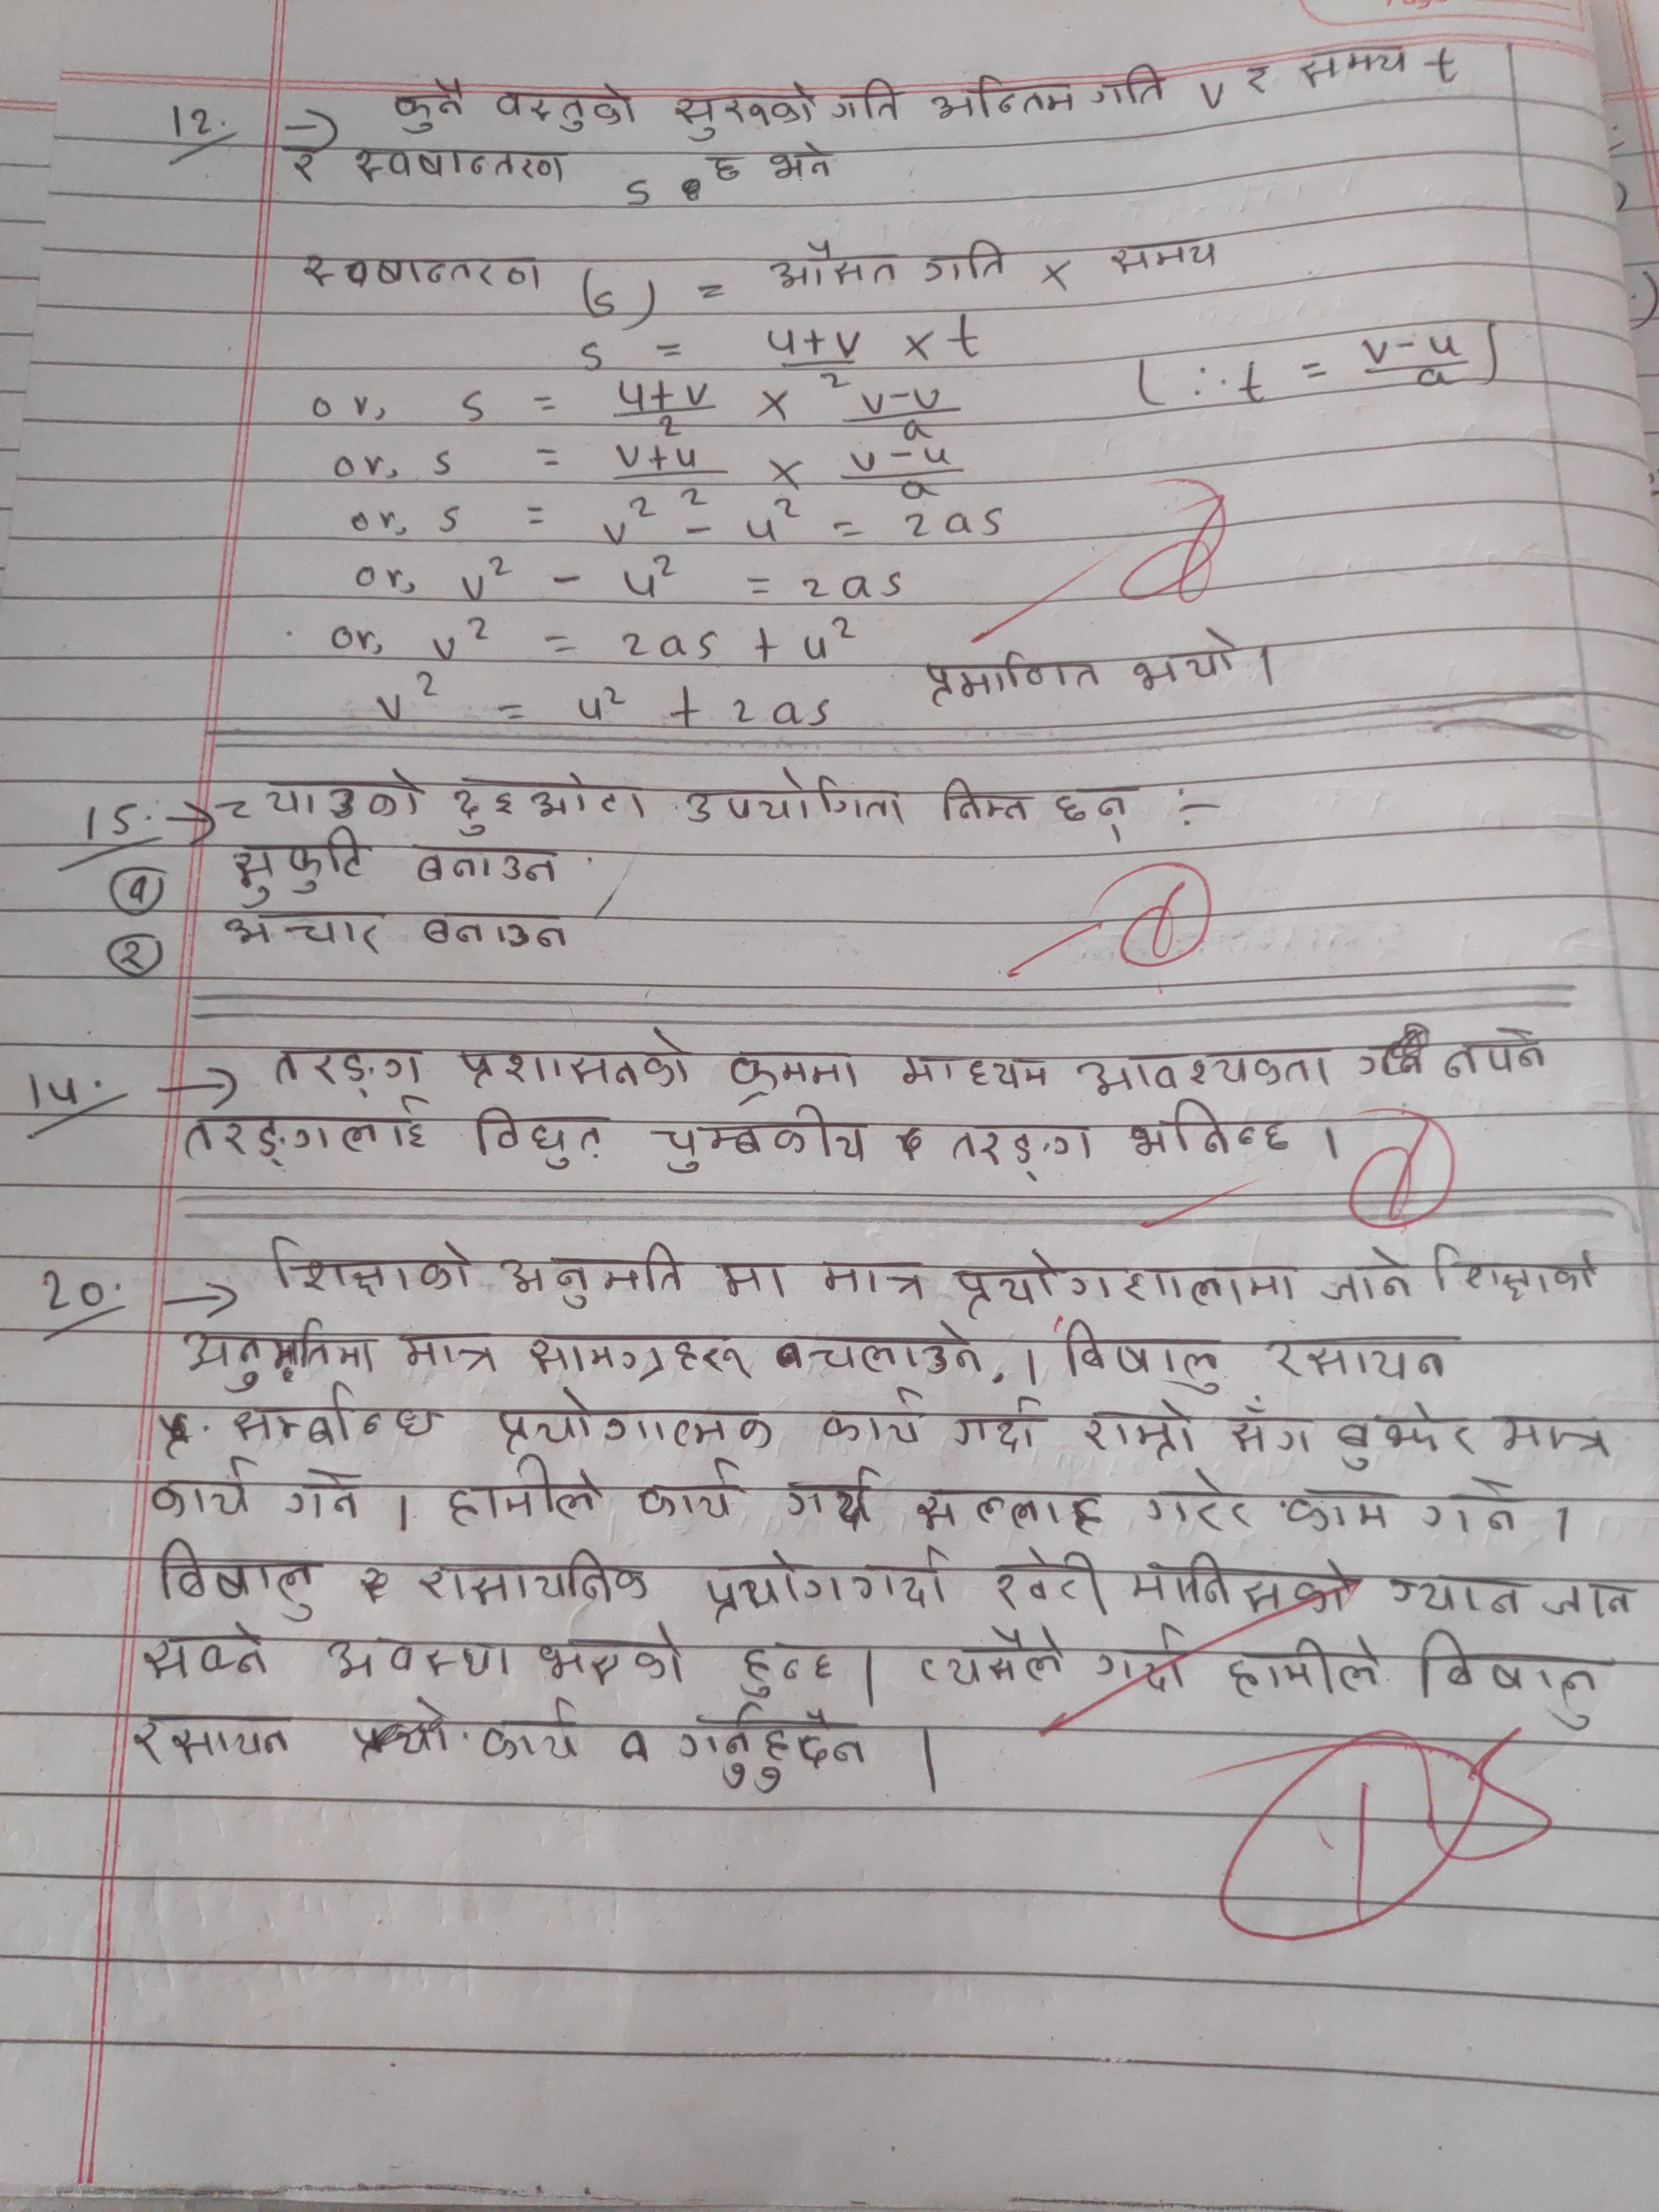text: (953, 1245, 1300, 1322), (1412, 1625, 1605, 1737), (491, 1385, 779, 1449), (455, 1026, 694, 1099), (674, 1702, 866, 1792), (186, 1096, 430, 1163), (183, 1313, 389, 1393), (141, 1531, 322, 1622), (650, 1104, 875, 1176), (443, 763, 648, 840), (1129, 1554, 1359, 1620), (674, 765, 906, 829), (261, 1230, 474, 1298), (232, 1383, 448, 1449), (497, 1238, 687, 1312), (413, 1548, 657, 1602), (519, 1327, 749, 1383), (1075, 1045, 1335, 1094), (1225, 1630, 1389, 1707), (1054, 1313, 1222, 1388), (216, 765, 420, 824), (915, 1480, 1110, 1541), (441, 1456, 606, 1527), (228, 826, 369, 909), (1424, 1240, 1601, 1305), (295, 249, 545, 294), (1127, 1094, 1295, 1162), (702, 1548, 845, 1625), (1337, 1397, 1480, 1472), (913, 651, 1105, 707), (950, 1115, 1094, 1186), (125, 1710, 298, 1770), (532, 1625, 687, 1689), (1269, 1331, 1459, 1383), (350, 145, 575, 188), (671, 77, 819, 141), (322, 1635, 511, 1684), (918, 1629, 1068, 1689), (993, 1543, 1110, 1620), (471, 1108, 612, 1170), (897, 1042, 1054, 1097), (810, 1329, 985, 1378), (720, 1043, 861, 1103), (1389, 1564, 1530, 1622), (138, 1622, 270, 1683), (272, 1043, 427, 1094), (413, 840, 563, 892), (476, 1698, 586, 1768), (1077, 1397, 1201, 1458), (762, 239, 901, 293), (221, 907, 382, 953), (932, 73, 1080, 122), (1124, 629, 1246, 688), (490, 85, 636, 134), (633, 1458, 748, 1519), (148, 1463, 261, 1524), (1143, 1472, 1256, 1533), (810, 1251, 934, 1306), (782, 1467, 892, 1529), (1492, 1407, 1608, 1465), (416, 909, 577, 951), (849, 1548, 953, 1611), (1098, 1623, 1199, 1688), (1443, 1024, 1546, 1085), (396, 1320, 500, 1379), (819, 1390, 929, 1446), (1422, 1479, 1521, 1540), (739, 1641, 840, 1700), (1319, 1245, 1417, 1306), (951, 1393, 1051, 1453), (1293, 40, 1415, 85), (1230, 1395, 1314, 1460), (936, 772, 1033, 826), (1541, 1575, 1649, 1622), (1054, 784, 1134, 846), (1288, 1487, 1398, 1533), (281, 1467, 369, 1519), (387, 77, 467, 132), (831, 77, 913, 129), (1089, 63, 1178, 110), (922, 242, 1007, 291), (1112, 237, 1220, 275), (709, 1258, 788, 1298), (760, 146, 833, 185)
